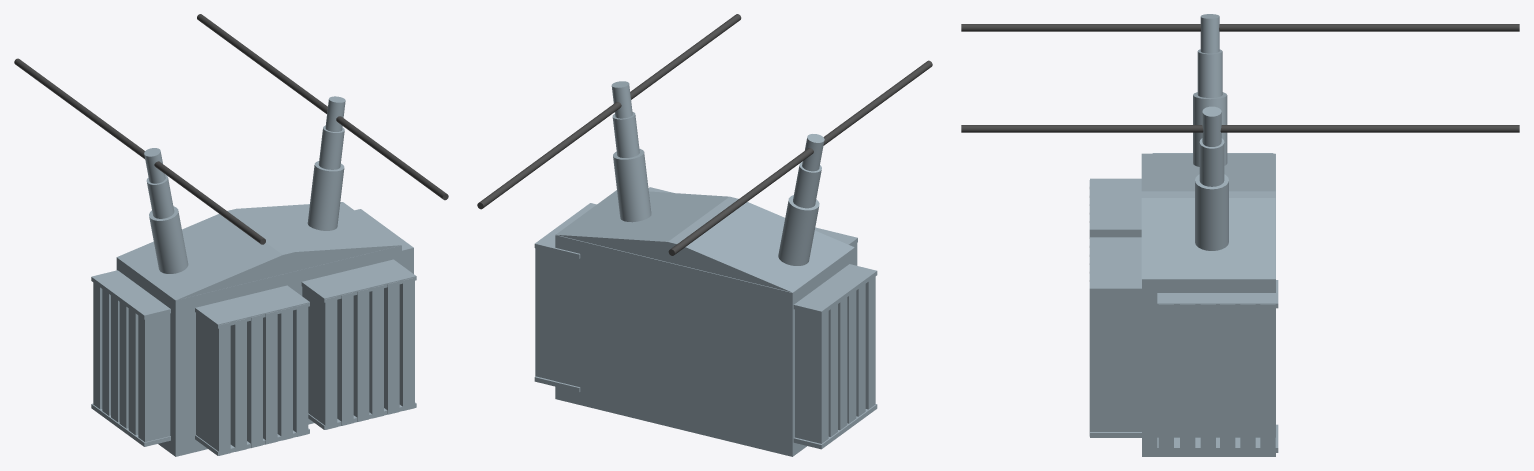
File: Transformer.fbx
3 renders of one model, left to right at view 1: azimuth 30°, elevation 25°; view 2: azimuth 150°, elevation 25°; view 3: azimuth 270°, elevation 25°, orthographic. The views are drawn at different scales.
Visible parts, largest first — view 1: pCube27, pCube17, pCube1, pCube18, pCube9, pCylinder8 (×2), pCube8, pCube16, pCube10, pCube11, pCylinder11, pCube2 (+17 smaller); view 2: pCube17, pCube27, pCube23 (×2), pCylinder8 (×2), pCube25 (×2), pCylinder11, pCylinder12, pCylinder9 (×2), pCube18, pCube19, pCube21, pCube20 (+3 smaller); view 3: pCube27, pCube17, pCube14, pCylinder11, pCylinder12, pCylinder8 (×2), pCube8, pCube16, pCube22, pCube23, pCube18, pCube19 (+6 smaller).
Boxes of the visible parts, bbox=[...] form: pCube27: bbox=[117, 202, 401, 300]; pCube17: bbox=[116, 245, 401, 456]; pCube1: bbox=[196, 313, 230, 455]; pCube18: bbox=[138, 313, 170, 442]; pCube9: bbox=[302, 287, 337, 429]; pCylinder8 (×2): bbox=[149, 161, 344, 273]; pCube8: bbox=[195, 285, 309, 328]; pCube16: bbox=[301, 259, 416, 302]; pCube10: bbox=[337, 292, 353, 425]; pCube11: bbox=[353, 288, 369, 421]; pCylinder11: bbox=[197, 14, 448, 200]; pCube2: bbox=[230, 318, 246, 451]; pCube17: bbox=[555, 235, 854, 456]; pCube27: bbox=[556, 190, 854, 292]; pCube23 (×2): bbox=[535, 248, 828, 443]; pCylinder8 (×2): bbox=[613, 148, 819, 265]; pCube25 (×2): bbox=[534, 203, 877, 315]; pCylinder11: bbox=[477, 14, 741, 209]; pCylinder12: bbox=[668, 60, 932, 255]; pCylinder9 (×2): bbox=[612, 112, 821, 208]; pCube18: bbox=[865, 276, 875, 409]; pCube19: bbox=[856, 284, 865, 416]; pCube21: bbox=[838, 297, 847, 430]; pCube20: bbox=[847, 291, 856, 423]; pCube27: bbox=[1141, 153, 1275, 278]; pCube17: bbox=[1142, 154, 1275, 456]; pCube14: bbox=[1089, 282, 1141, 436]; pCylinder11: bbox=[961, 125, 1519, 132]; pCylinder12: bbox=[961, 24, 1519, 31]; pCylinder8 (×2): bbox=[1193, 92, 1228, 250]; pCube8: bbox=[1090, 178, 1141, 234]; pCube16: bbox=[1090, 237, 1141, 293]; pCube22: bbox=[1240, 304, 1255, 452]; pCube23: bbox=[1260, 304, 1275, 452]; pCube18: bbox=[1158, 304, 1173, 452]; pCube19: bbox=[1180, 304, 1195, 452].
Size of the model in its own units: 12.84 by 13.02 by 20.1.
